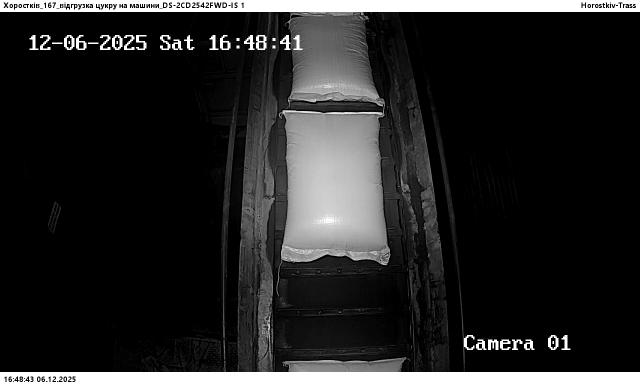bag: (282, 110, 390, 266), (290, 16, 384, 106)
